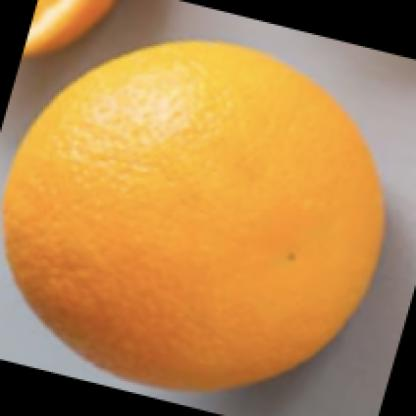fresh: (4, 41, 384, 386)
